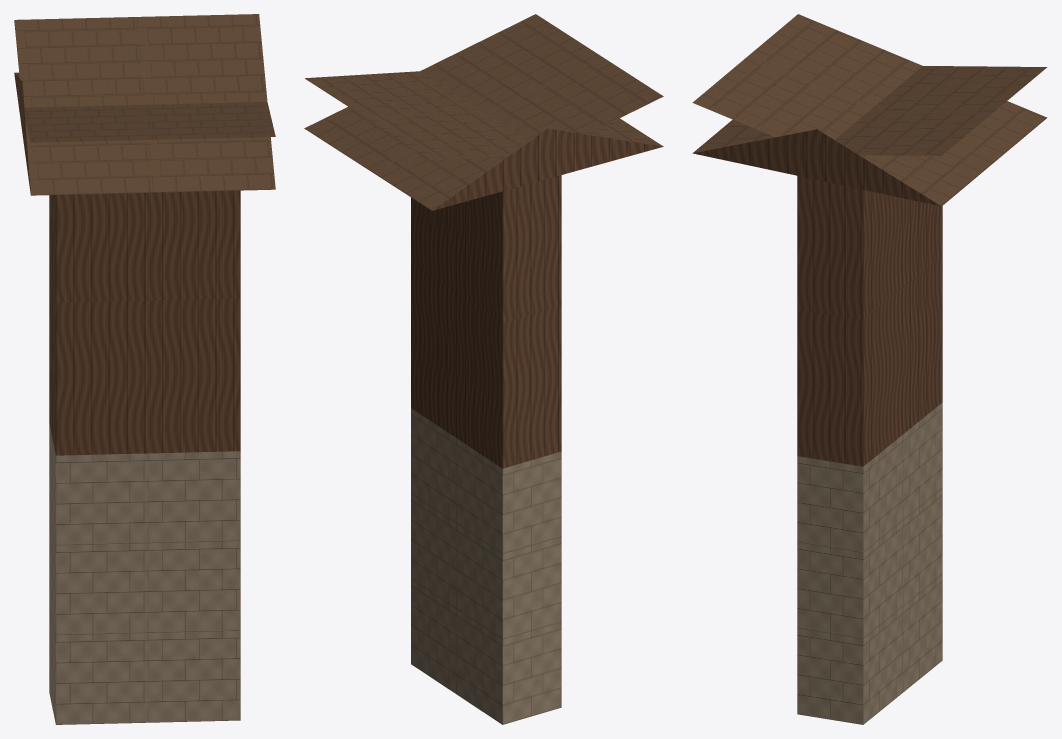
File: bld_c41_-49_462.gltf
3 renders of one model, left to right at view 1: azimuth 30°, elevation 25°; view 2: azimuth 150°, elevation 25°; view 3: azimuth 270°, elevation 25°, orthographic. The views are drawn at different scales.
Visible parts, largest first — view 1: bld_c41_-49_462; view 2: bld_c41_-49_462; view 3: bld_c41_-49_462.
Boxes of the visible parts, x1,y1,x2,y2 form: bld_c41_-49_462: (14, 14, 275, 724); bld_c41_-49_462: (304, 14, 663, 724); bld_c41_-49_462: (692, 14, 1047, 724).
Size of the model in its own units: 6.01 by 11.9 by 6.36.
4 materials, 4 textured.
